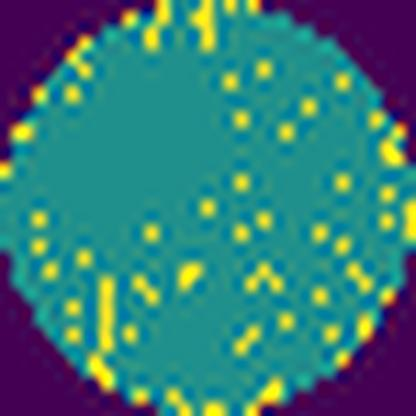Scratch: (91, 268, 120, 356)
